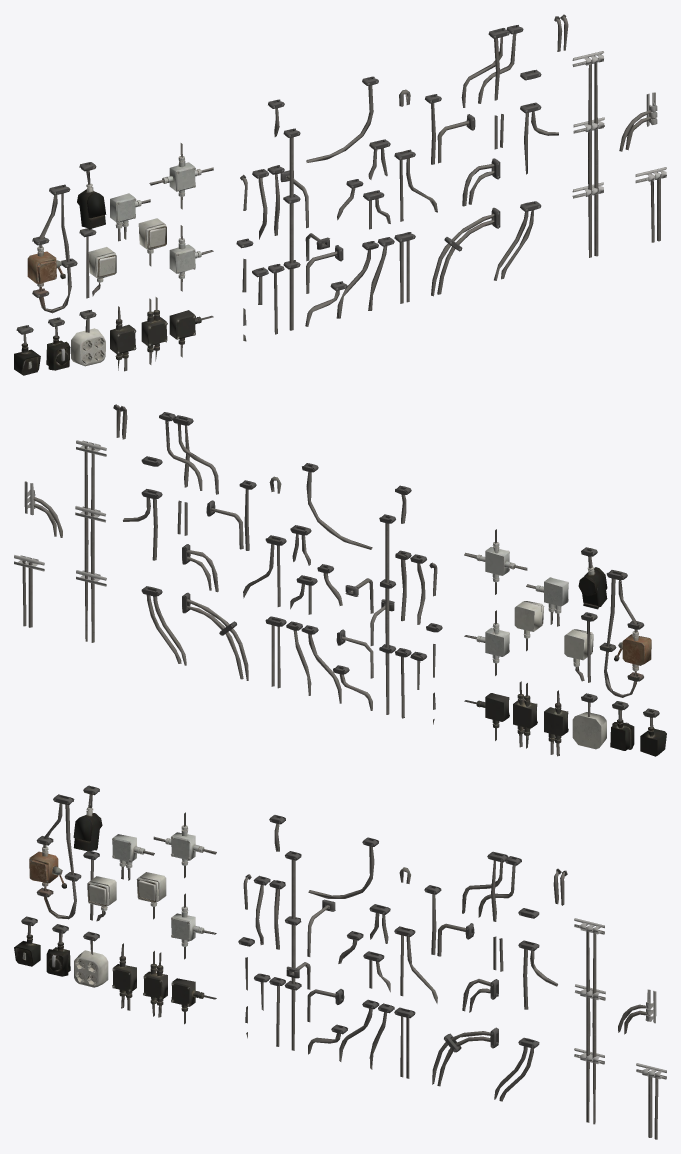
File: cables.glb
3 renders of one model, top to bottom at view 1: azimuth 30°, elevation 25°; view 2: azimuth 150°, elevation 25°; view 3: azimuth 330°, elevation 25°, orthographic.
Parts seen in each view (by area): view 1: cable_straight_medium, cable_box_3way; view 2: cable_straight_medium, cable_box_3way; view 3: cable_straight_medium, cable_box_3way.
Boxes of the visible parts, <box> form: cable_straight_medium: <box>236,14,666,341</box>; cable_box_3way: <box>14,143,213,375</box>; cable_straight_medium: <box>14,404,442,724</box>; cable_box_3way: <box>464,529,666,756</box>; cable_straight_medium: <box>238,815,666,1139</box>; cable_box_3way: <box>14,785,216,1024</box>.
Size of the model in its own units: 2.08 by 0.7572 by 0.2146.
2 materials, 2 textured.
